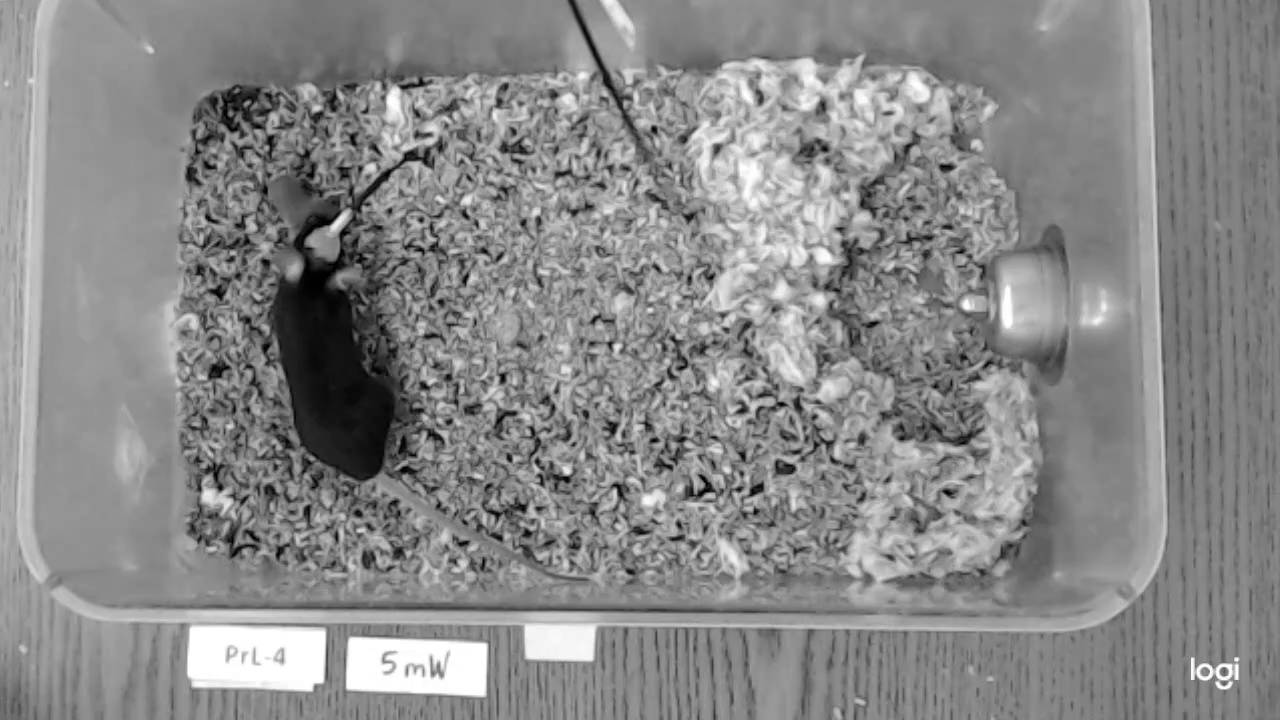parent-mice: (270, 210, 394, 478)
